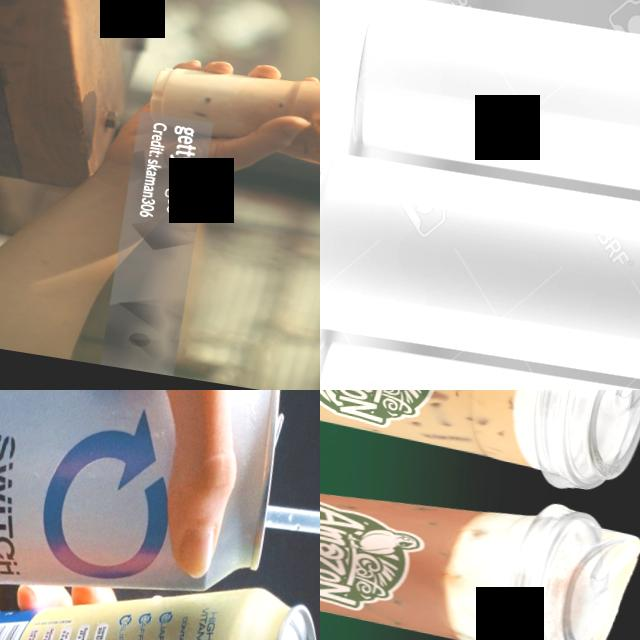can: (320, 147, 640, 387), (0, 390, 292, 640), (346, 0, 640, 202), (0, 539, 320, 640), (320, 335, 640, 390)
cup: (320, 433, 640, 640), (320, 390, 640, 505), (142, 48, 320, 178)
